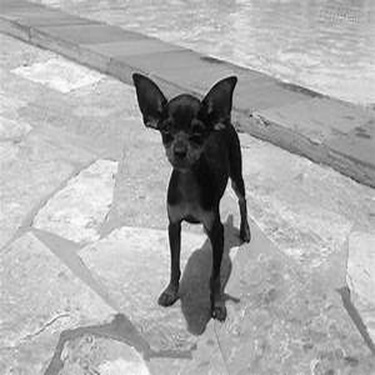dog: (117, 62, 257, 328)
